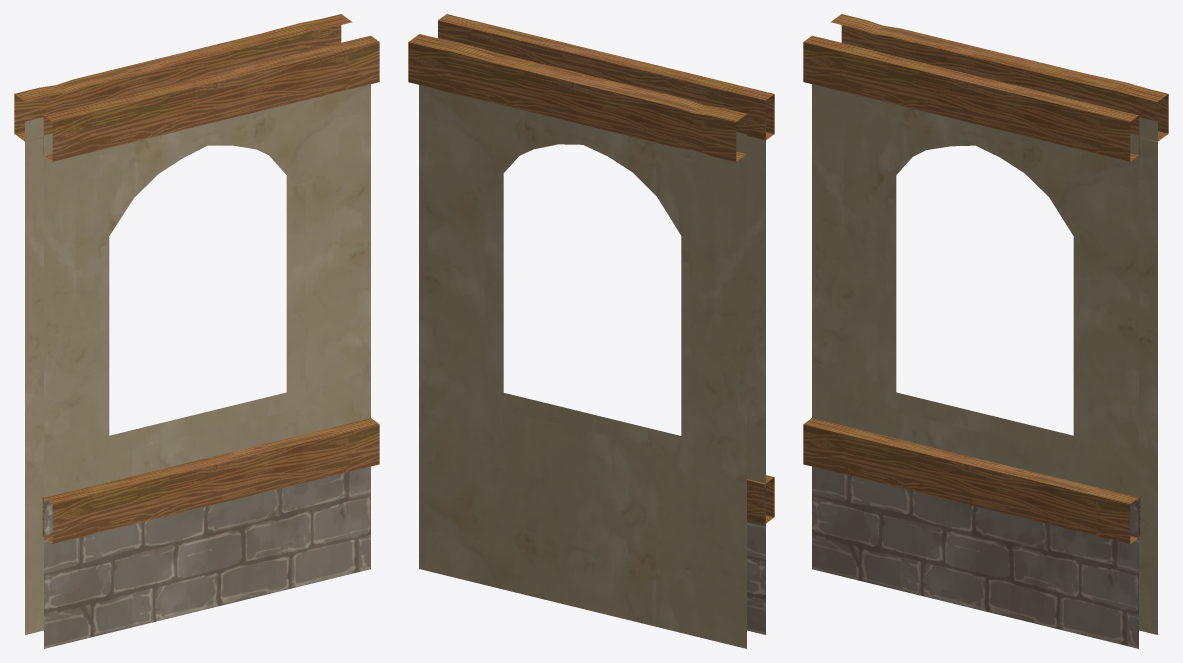
Rendered from house_window.glb.
The picture shows the model from 3 angles, left to right: view 1: azimuth 30°, elevation 25°; view 2: azimuth 150°, elevation 25°; view 3: azimuth 330°, elevation 25°; orthographic projection.
Parts seen in each view (by area): view 1: Wall_Plaster_Window_Wide_Round; view 2: Wall_Plaster_Window_Wide_Round; view 3: Wall_Plaster_Window_Wide_Round.
Boxes of the visible parts, x1=… form: Wall_Plaster_Window_Wide_Round: x1=14, y1=14, x2=379, y2=648; Wall_Plaster_Window_Wide_Round: x1=408, y1=14, x2=774, y2=648; Wall_Plaster_Window_Wide_Round: x1=803, y1=14, x2=1168, y2=648.
Size of the model in its own units: 2 by 3.12 by 0.4065.
3 materials, 3 textured.
